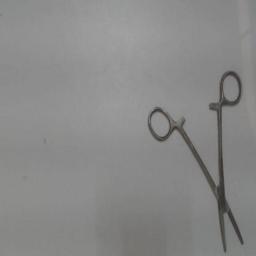Mayo Needle Holder: (145, 68, 247, 254)
